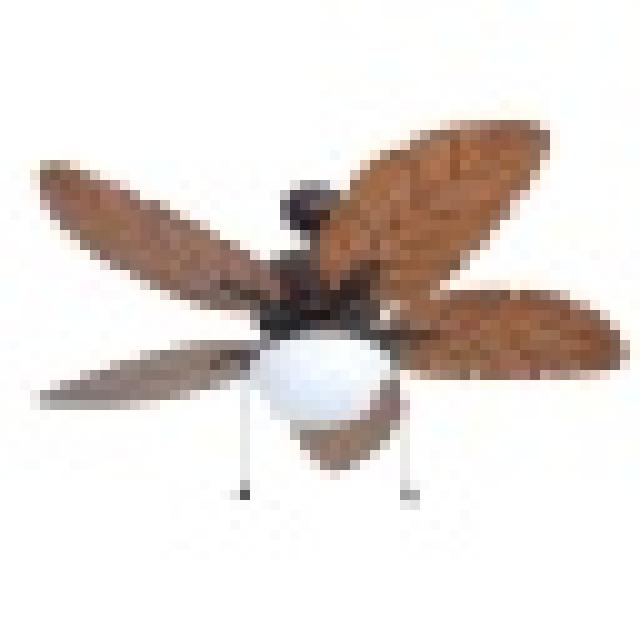Bulb: (27, 100, 577, 492)
